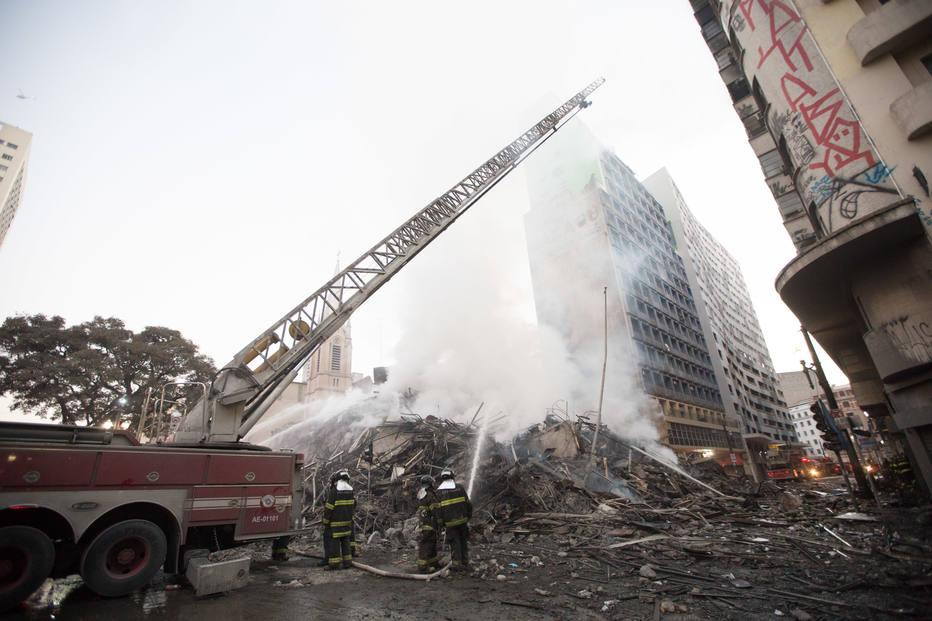smoke: (412, 297, 602, 410)
